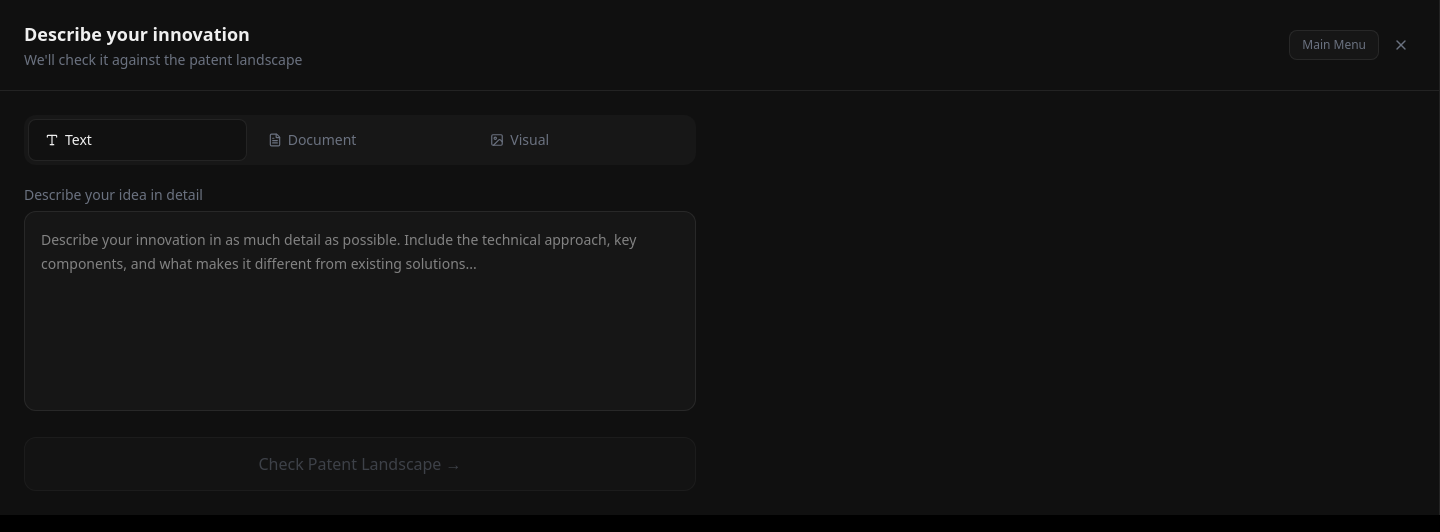
it: IdeaInputPanel › shows config step (patent count slider) after clicking submit
// Fill in required fields — text tab only needs textarea
Replace the text in the text box with placeholder "Describe your innovation in as much detail" with "A novel battery design": (360, 311) [24,211,696,411]
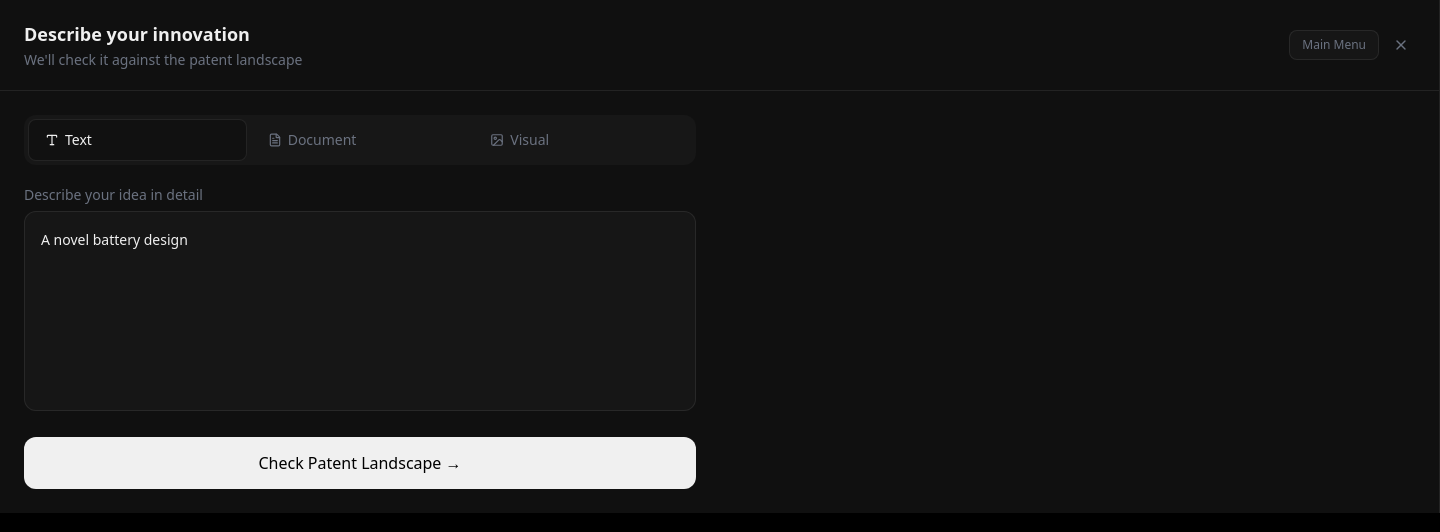
Click the button "Check Patent Landscape →": (360, 463) [24,437,696,489]
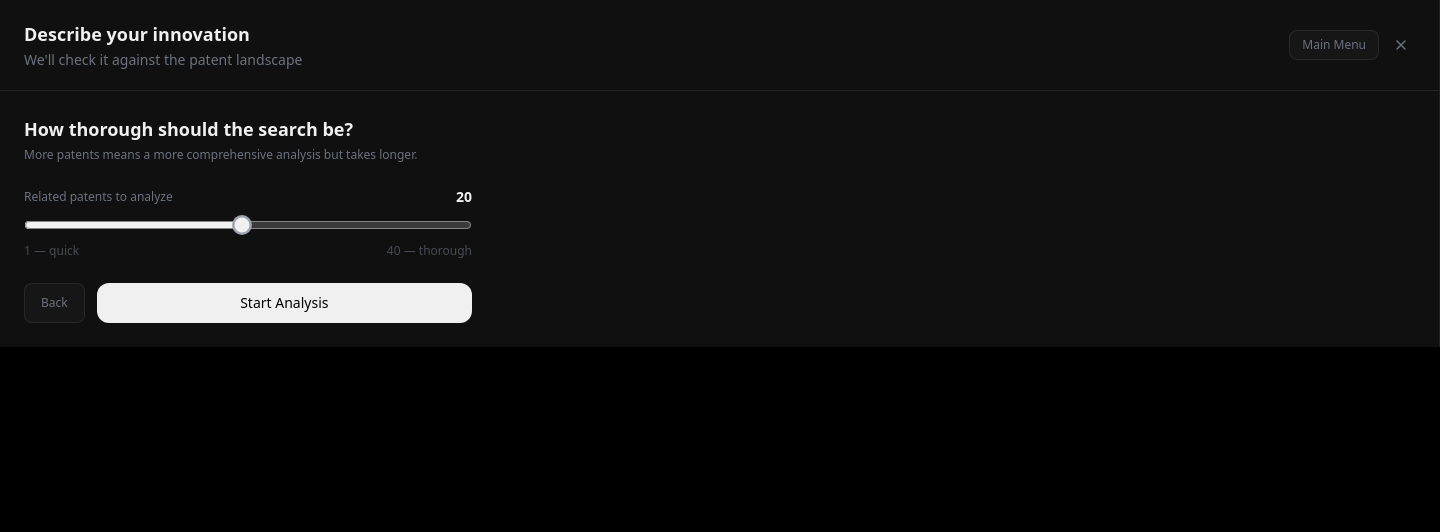
Check: the heading "How thorough should the search be?" is shown, box [24,117,353,141]
Check: the button "Start Analysis" is shown, box [97,283,472,323]
Check: the button "Back" is shown, box [24,283,85,323]
